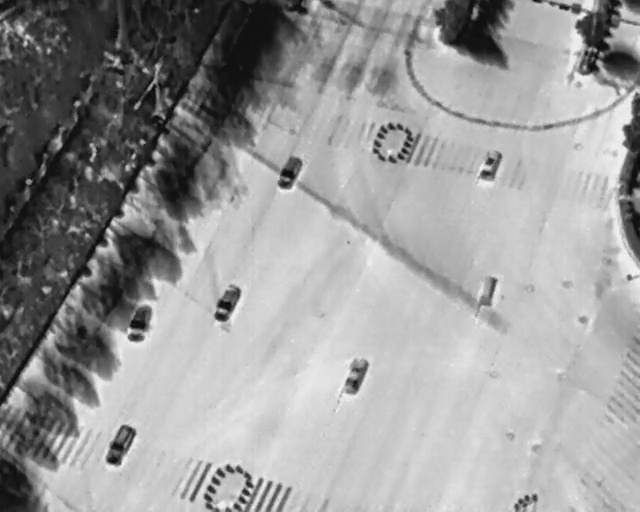Car: (102, 421, 139, 468), (209, 281, 245, 326), (339, 354, 371, 397), (126, 301, 154, 345), (274, 154, 304, 193), (477, 145, 504, 183), (477, 273, 499, 307)
